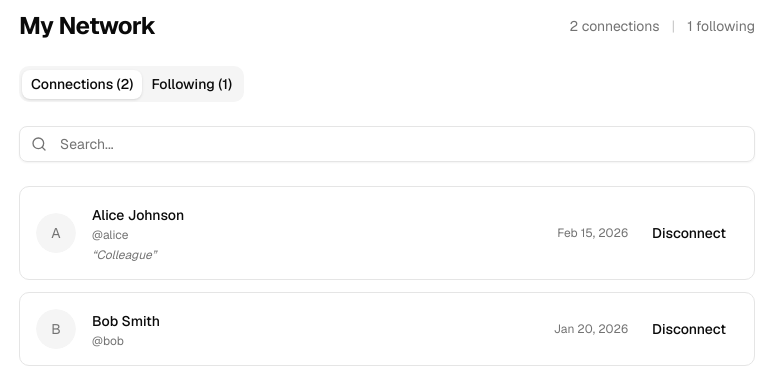
Test: MyNetworkPage › filters connections by search
This screenshot has width=775, height=383.
Type "alice" into the field with placeholder "Search..." at (387, 144), box [19,126,755,162]
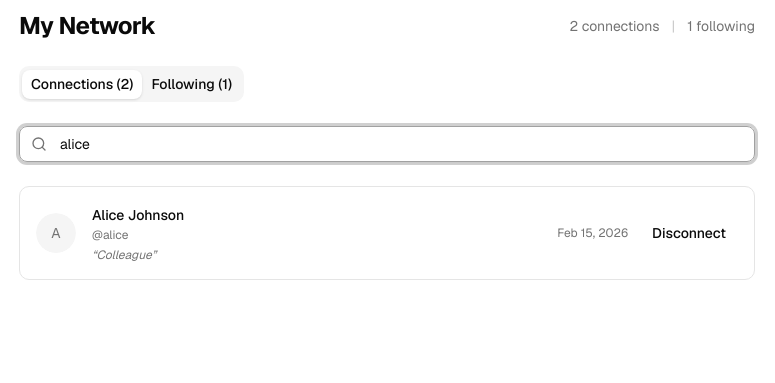
Check: the link "Alice Johnson" is shown, box [92,206,184,224]
Check: the link "Bob Smith" is gone
